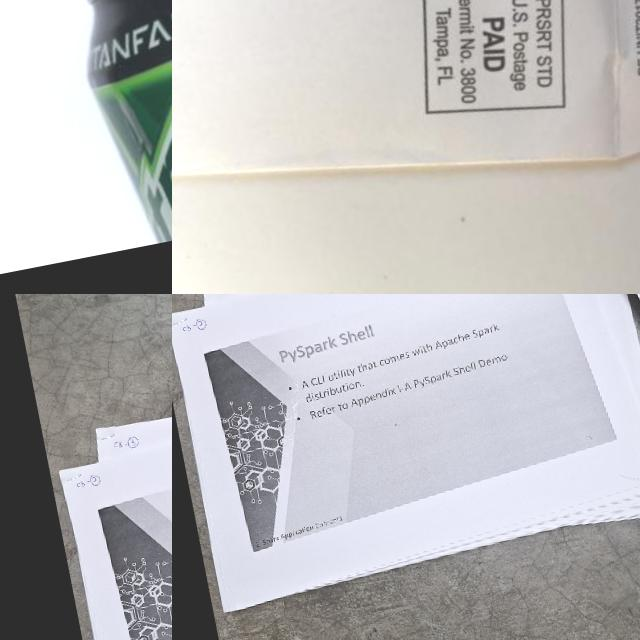lata: (53, 0, 172, 251)
papel: (172, 294, 640, 616), (172, 0, 640, 271), (44, 310, 172, 640)
